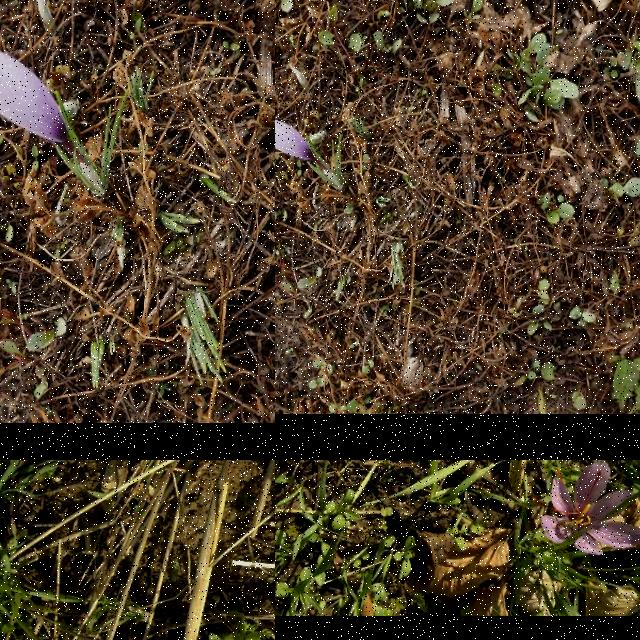flower: (540, 460, 640, 556), (0, 41, 71, 145), (275, 118, 318, 163)
